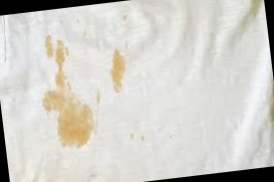coffee: (51, 104, 96, 151), (39, 82, 78, 111), (108, 48, 131, 92), (51, 38, 69, 85), (41, 32, 55, 57)
